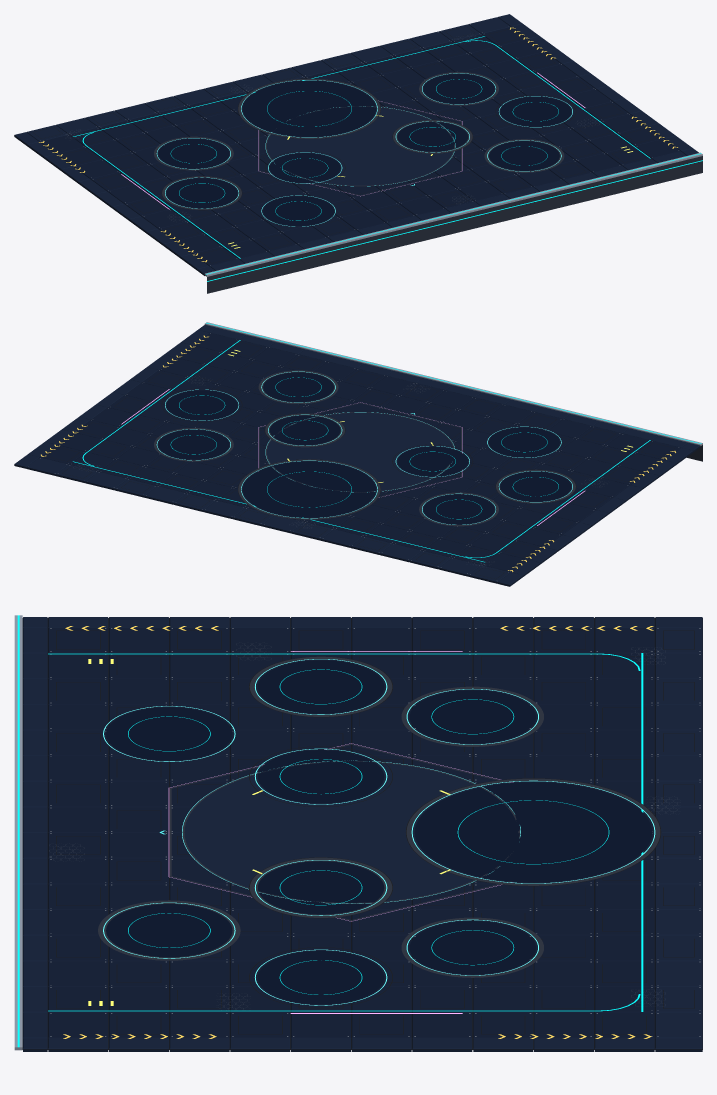
File: floor.glb
3 views of the same model, one above another, from view 1: azimuth 30°, elevation 25°; view 2: azimuth 150°, elevation 25°; view 3: azimuth 270°, elevation 25° (orthographic). The views are drawn at different scales.
Parts seen in each view (by area): view 1: Floor; view 2: Floor; view 3: Floor.
Boxes of the visible parts, x1,y1,x2,y2 form: Floor: (14,14,702,293); Floor: (14,322,702,586); Floor: (14,615,702,1051).
Bounding box in the file's own units: 20.2 × 0.726 × 13.62.
